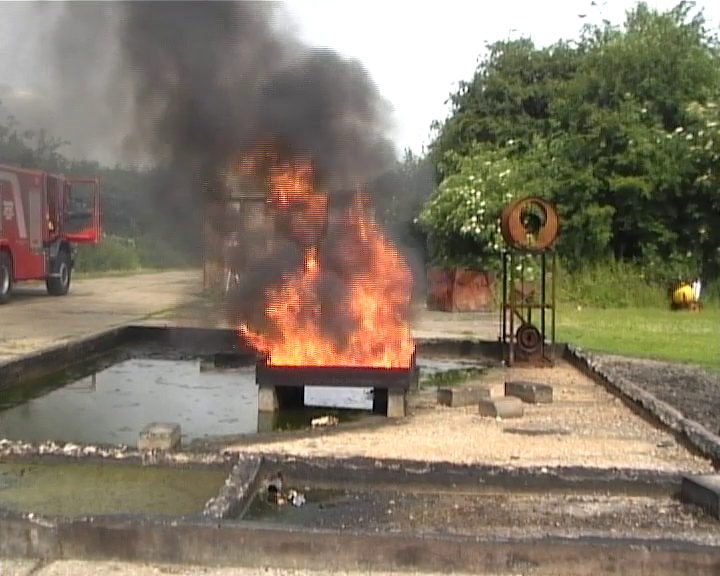fire: (245, 214, 415, 366), (263, 158, 316, 203), (680, 280, 700, 302)
